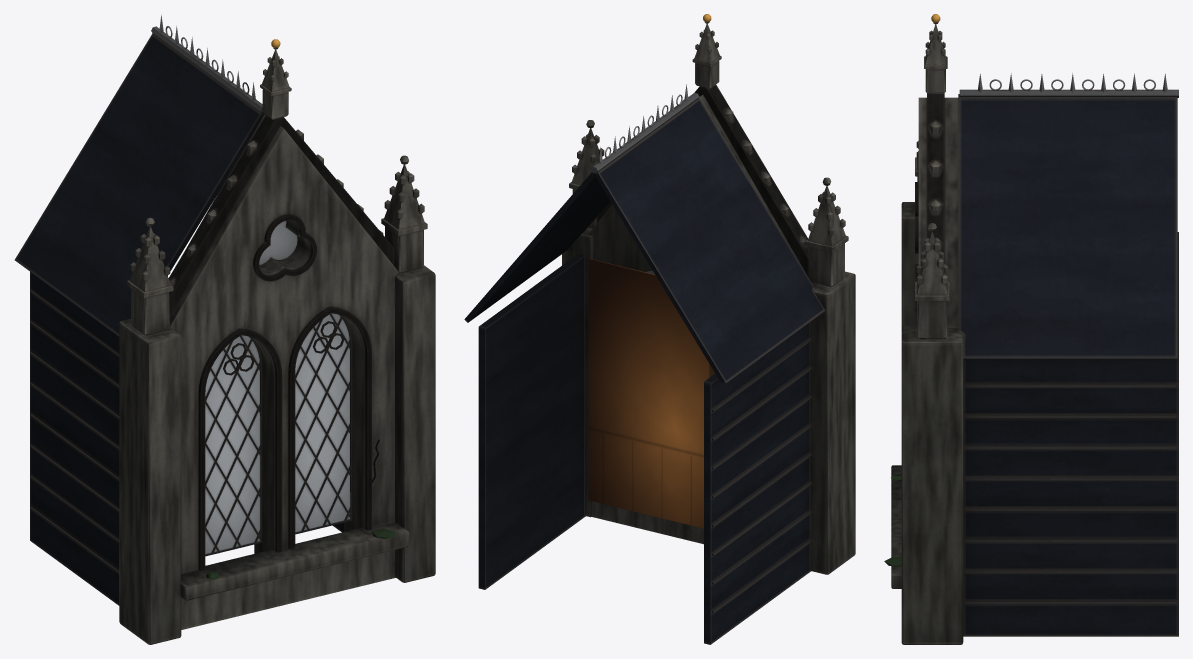
The model's file is LucarneDormer.fbx.
The picture shows the model from 3 angles, left to right: view 1: azimuth 30°, elevation 25°; view 2: azimuth 150°, elevation 25°; view 3: azimuth 270°, elevation 25°; orthographic projection. The views are drawn at different scales.
Visible parts, largest first — view 1: LucarneDormer_Main, LucarneDormer_Glass; view 2: LucarneDormer_Main, LucarneDormer_Room; view 3: LucarneDormer_Main.
Boxes of the visible parts, x1=… form: LucarneDormer_Main: x1=14, y1=15, x2=435, y2=644; LucarneDormer_Glass: x1=205, y1=221, x2=350, y2=554; LucarneDormer_Main: x1=464, y1=14, x2=855, y2=644; LucarneDormer_Room: x1=588, y1=258, x2=714, y2=528; LucarneDormer_Main: x1=884, y1=14, x2=1178, y2=644.
Size of the model in its own units: 486 by 904 by 431.
